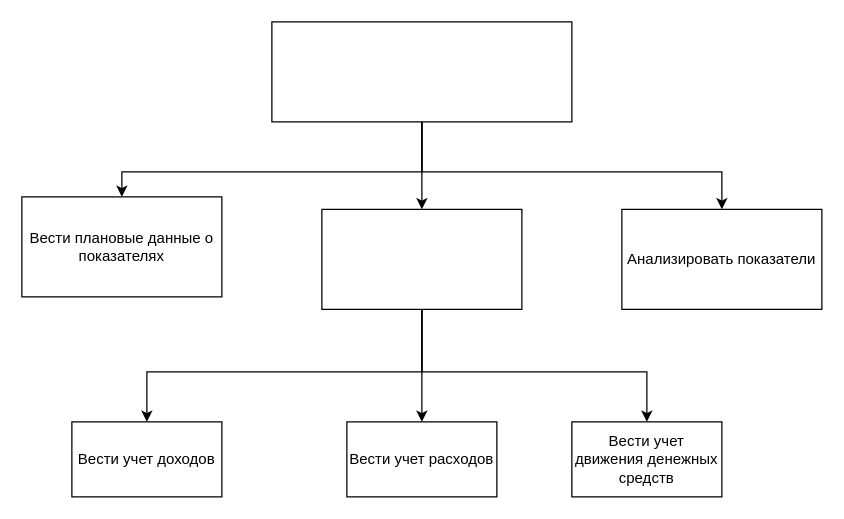
The diagram is 844 pixels wide and 519 high, and some of its shapes have lost their labels. Here are the shapes that lost their labels. From the top down, the centre of each, then its label:
point 421,71: Осуществлять управленческий учет для ООО "КанСити"
point 421,258: Вести учет фактических показателей деятельности
